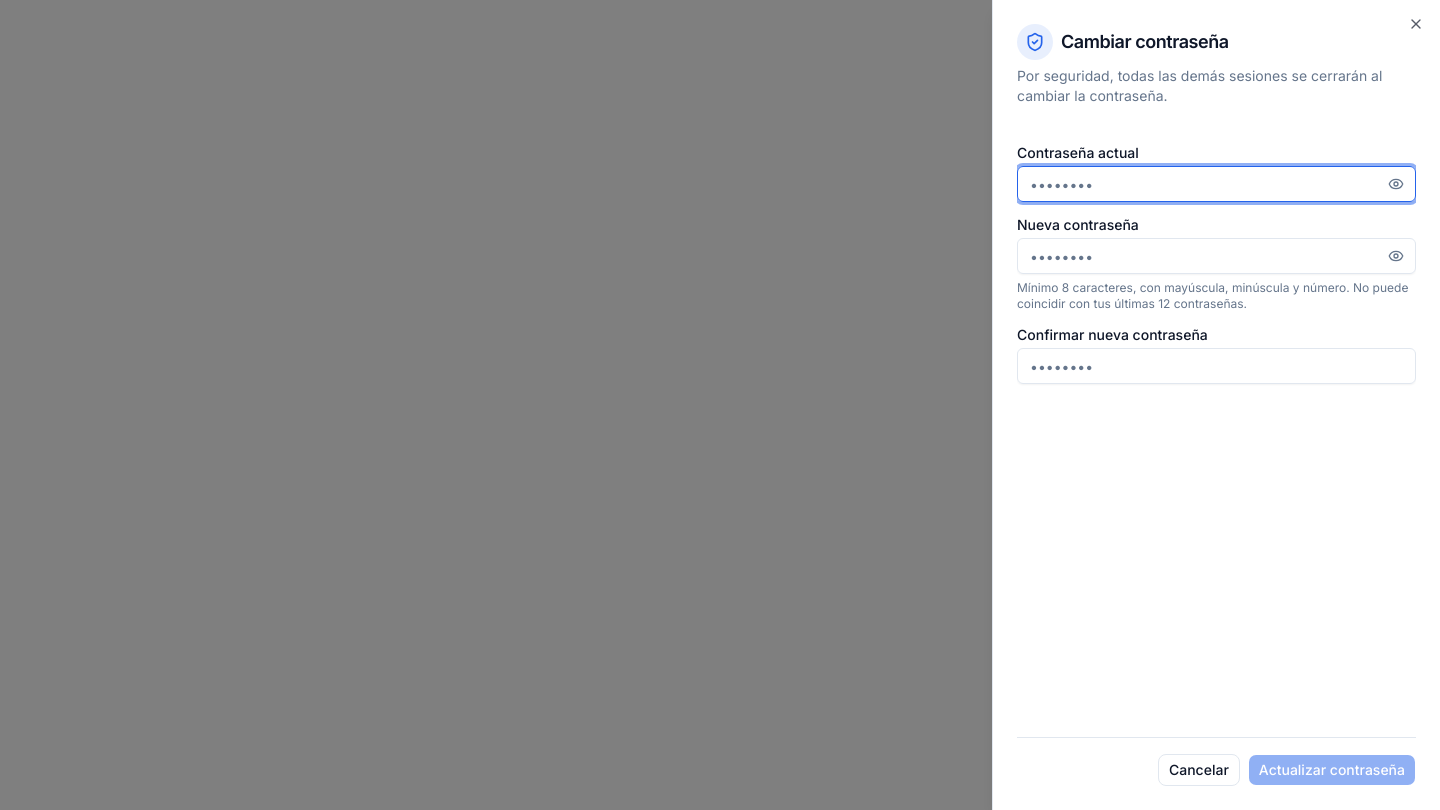
it: ChangePasswordSheet › muestra error de contraseña actual incorrecta
In the password field labelled "Contraseña actual": (1216, 184) [1017, 166, 1416, 202], type "wrong-current"
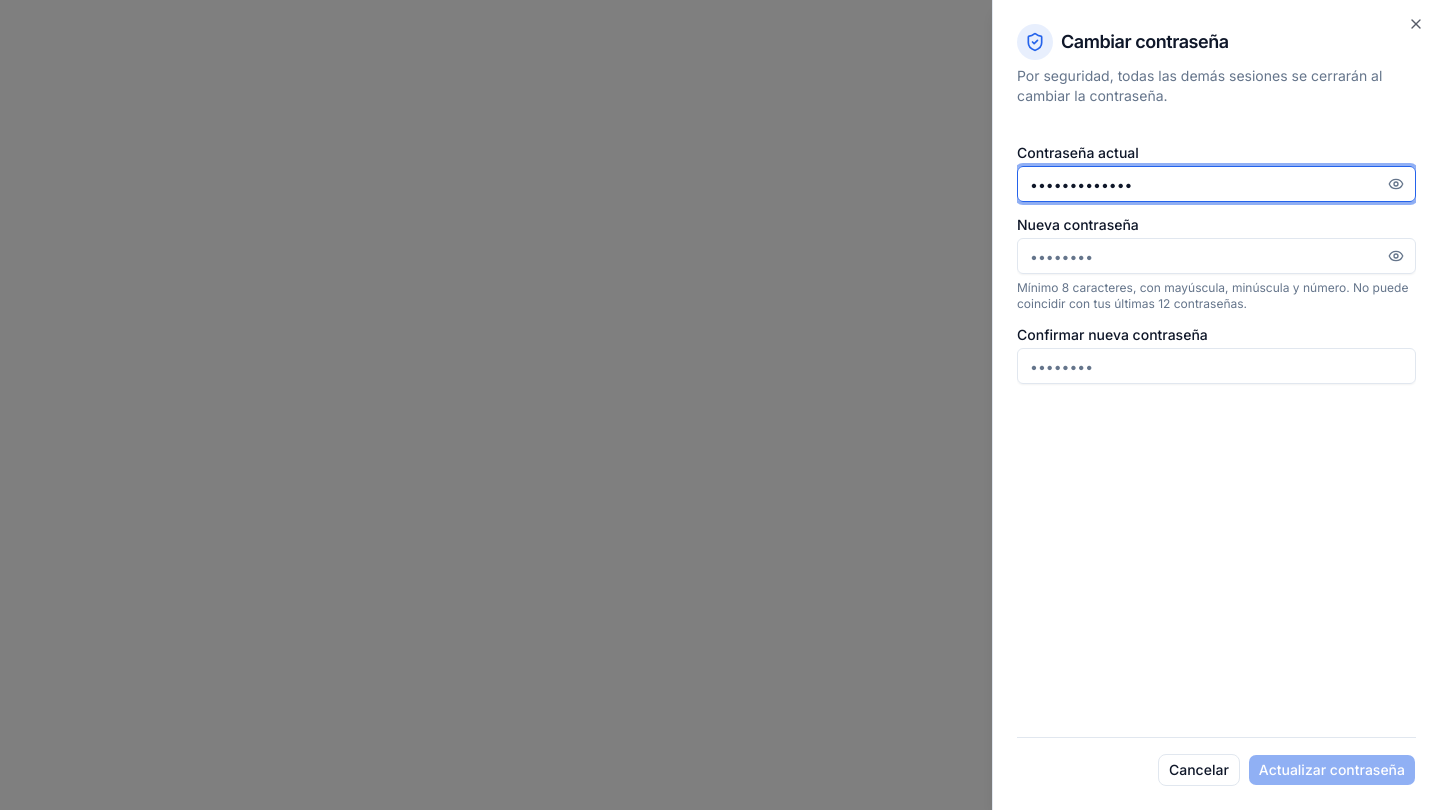
In the password field labelled "Nueva contraseña": (1216, 256) [1017, 238, 1416, 274], type "NewPass2024!"
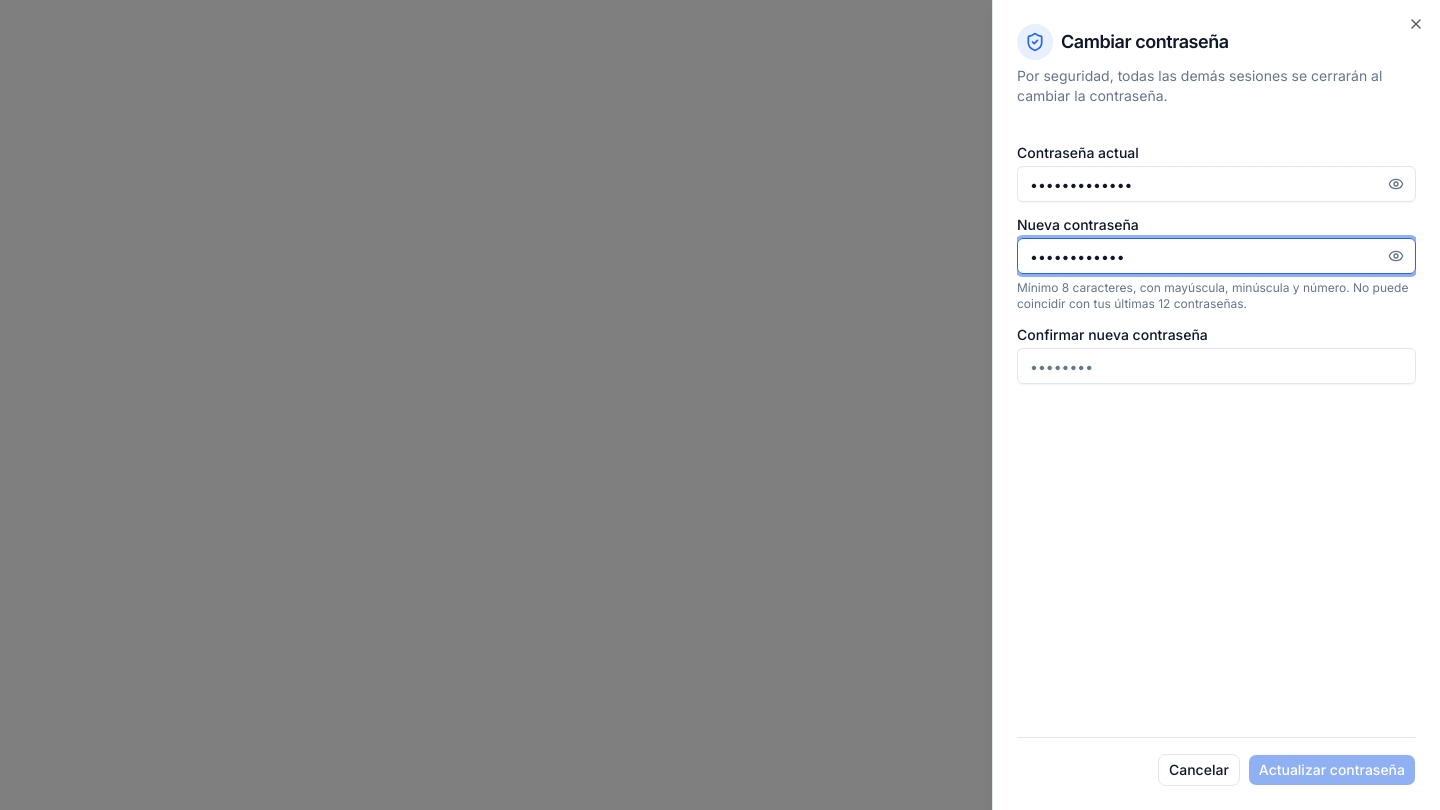
In the password field labelled "Confirmar nueva contraseña": (1216, 366) [1017, 348, 1416, 384], type "NewPass2024!"
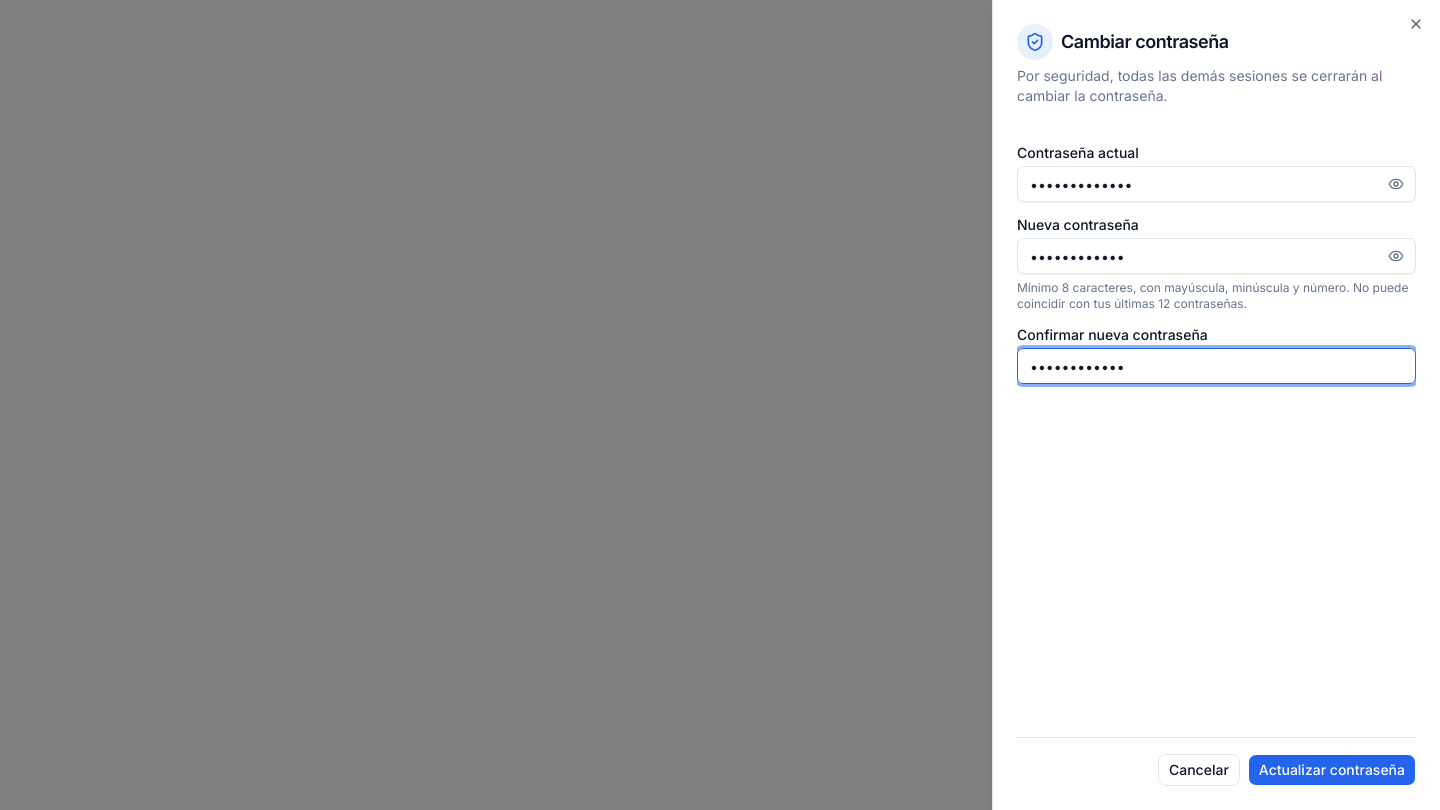
Check: the button "Actualizar contraseña" is enabled
Click the button "Actualizar contraseña": (1332, 770) [1248, 754, 1416, 786]
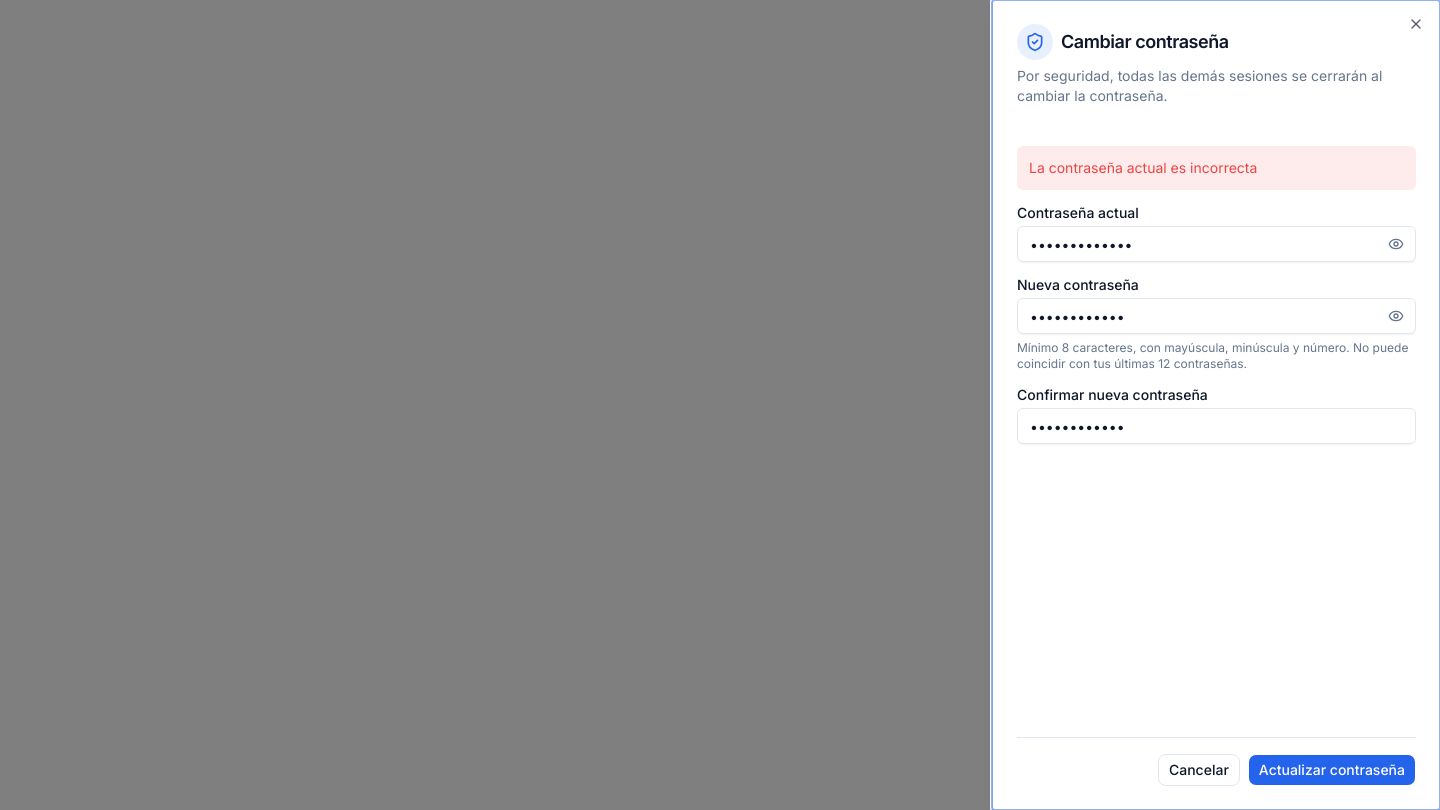
Check: the message shows "contraseña actual es incorrecta", box [1029, 159, 1257, 176]
